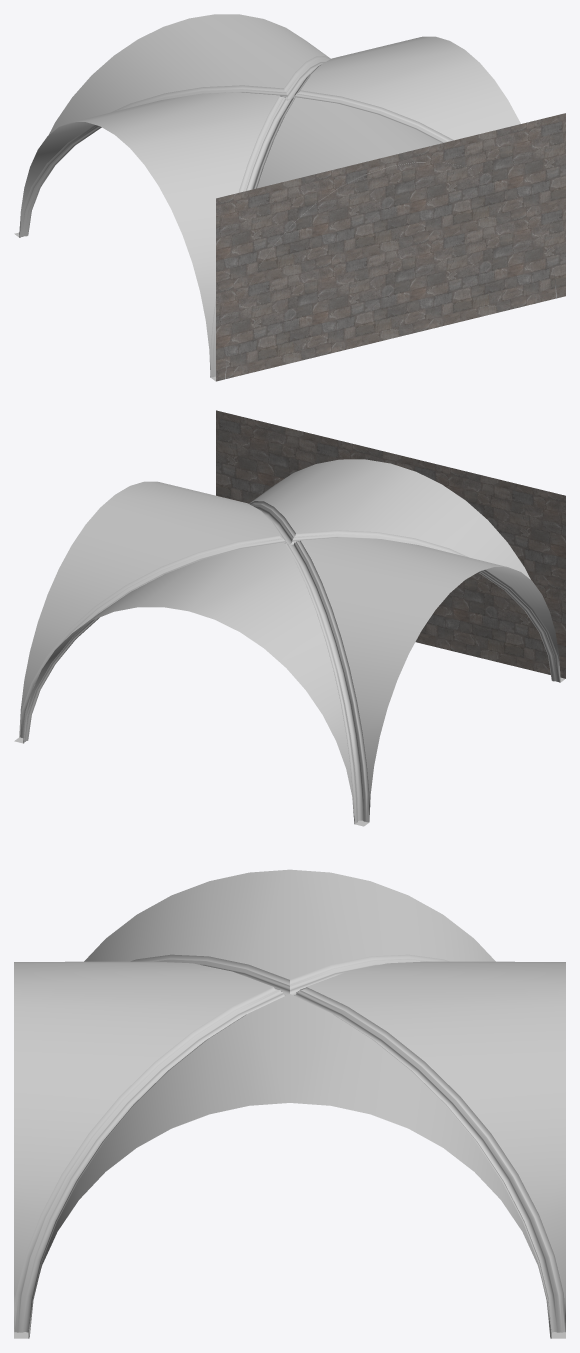
3 renders of one model, top to bottom at view 1: azimuth 30°, elevation 25°; view 2: azimuth 150°, elevation 25°; view 3: azimuth 270°, elevation 25°, orthographic. The views are drawn at different scales.
Visible parts, largest first — view 1: SM_RoomCeiling_1Wall_LOD0; view 2: SM_RoomCeiling_1Wall_LOD0; view 3: SM_RoomCeiling_1Wall_LOD0.
Boxes of the visible parts, box(x1,y1,x2,y2) form: SM_RoomCeiling_1Wall_LOD0: box(14, 14, 565, 381); SM_RoomCeiling_1Wall_LOD0: box(14, 410, 565, 826); SM_RoomCeiling_1Wall_LOD0: box(14, 869, 565, 1338).
Size of the model in its own units: 6 by 3 by 6.
